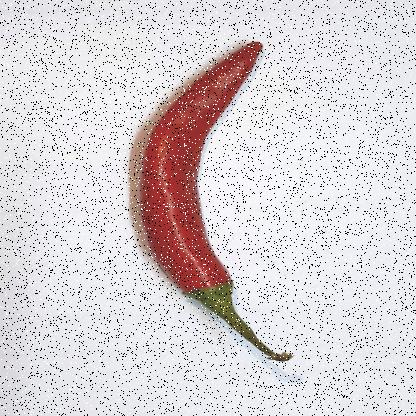chili: (135, 40, 298, 362)
